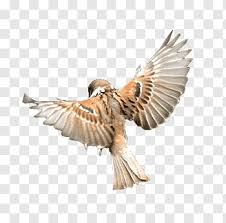hsparrow: (18, 27, 194, 191)
